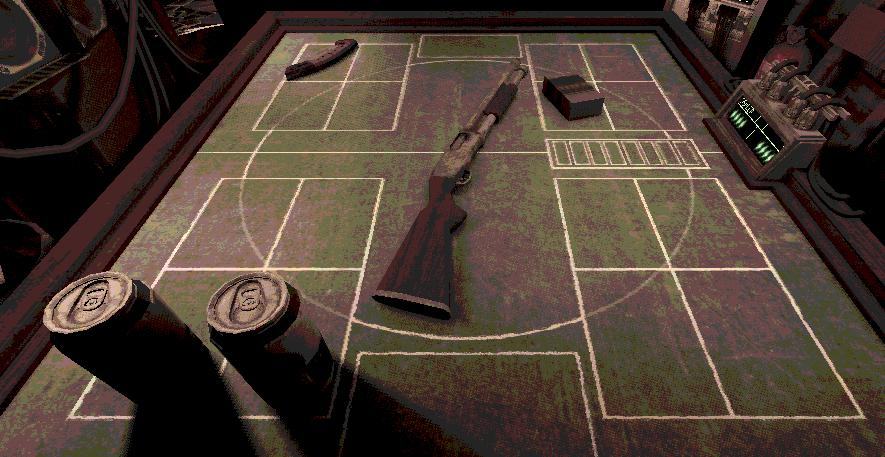ally: (0, 149, 884, 456)
can: (44, 272, 223, 421), (207, 272, 338, 418)
cigar: (286, 39, 357, 80), (541, 75, 605, 120)
emptyspace: (675, 270, 862, 416), (577, 271, 731, 418), (634, 171, 768, 268), (174, 179, 301, 267), (265, 179, 383, 270), (558, 179, 667, 269), (324, 81, 405, 135), (254, 81, 343, 129), (598, 82, 661, 129), (580, 44, 654, 84), (347, 44, 413, 81), (525, 44, 592, 80)
enemyspace: (196, 31, 751, 154)
gun: (371, 60, 527, 320)
